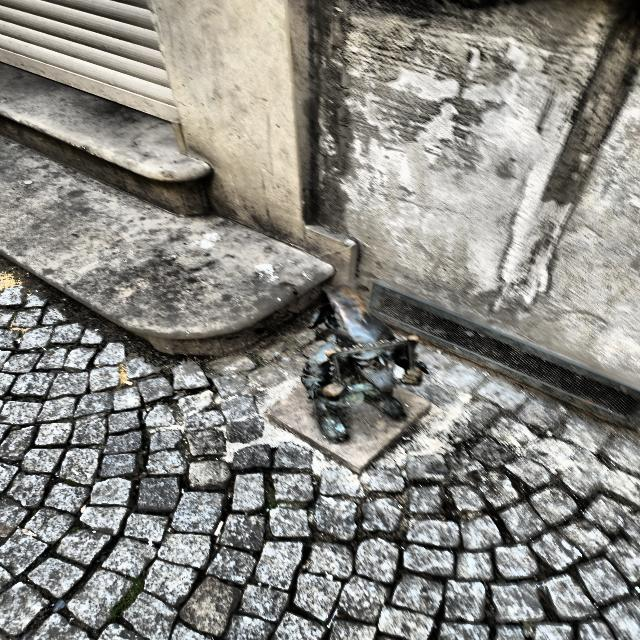Galeriusz: (302, 285, 427, 440)
